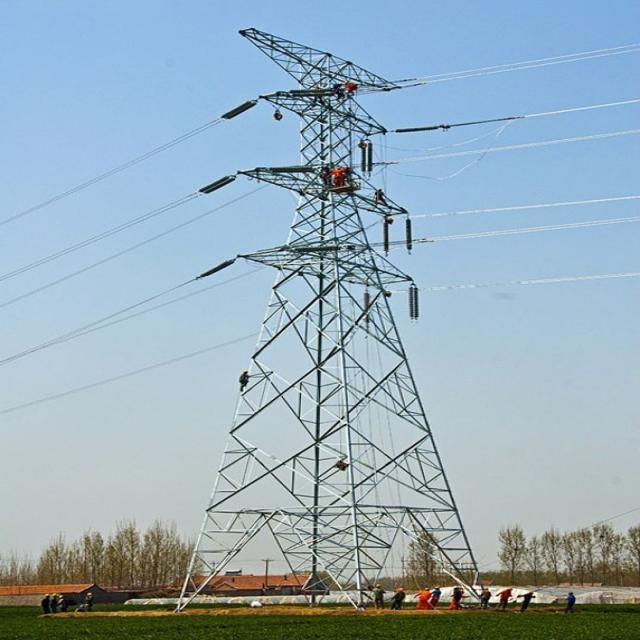non-critical vegetation: (197, 16, 497, 605)
